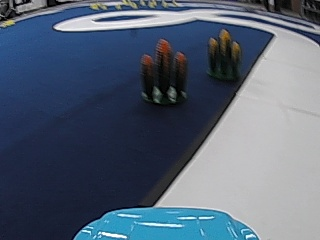corn: (140, 41, 189, 106), (205, 28, 241, 81)
